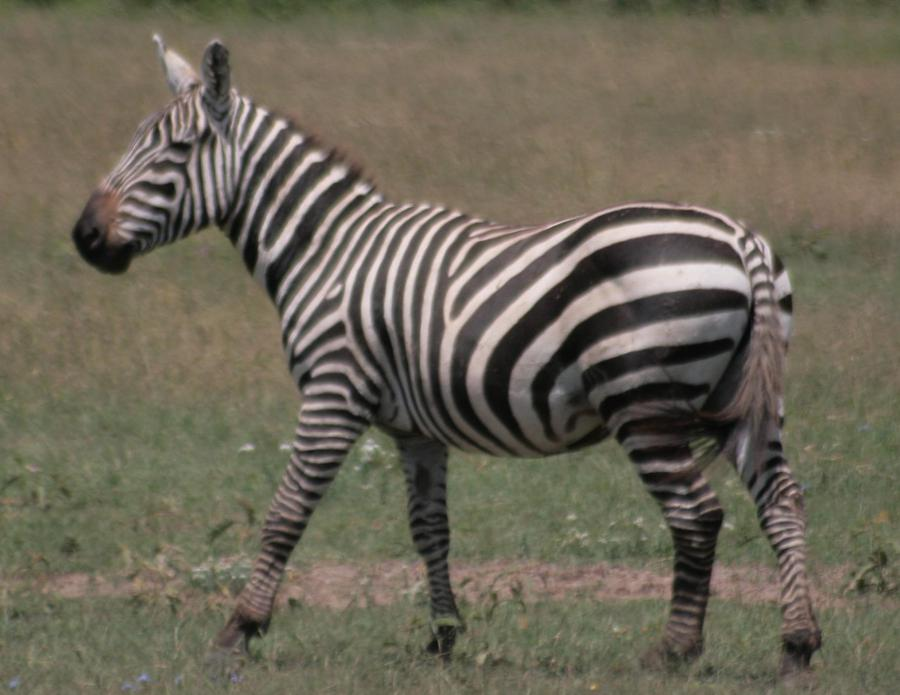zebra_plains: (269, 179, 742, 468)
